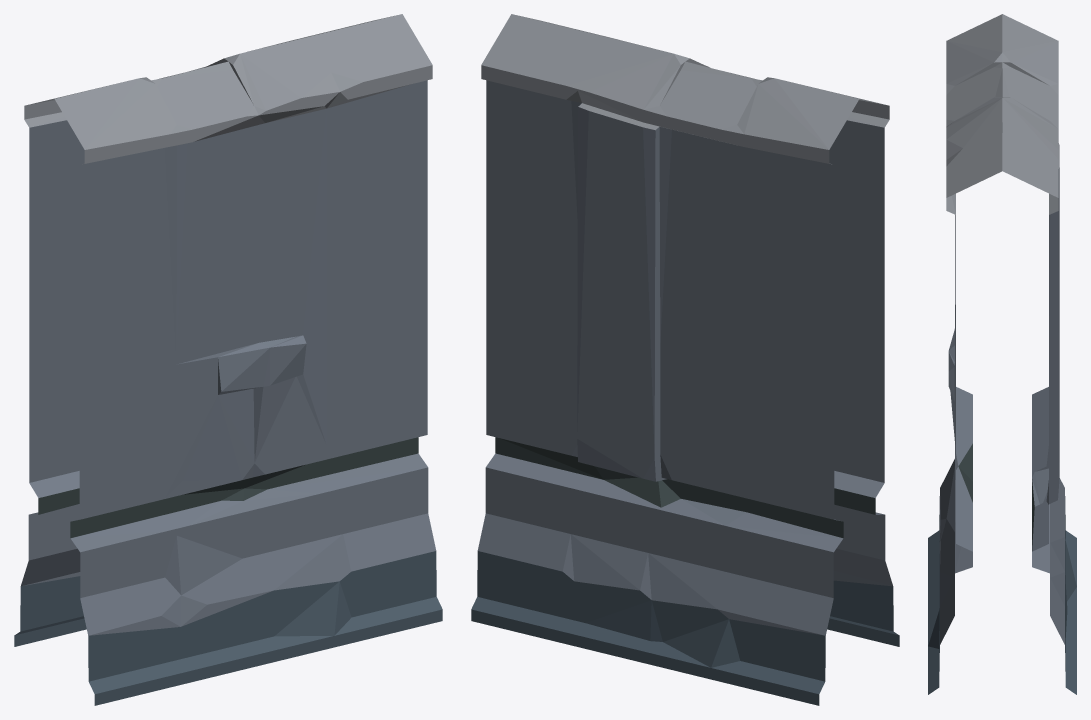
File: WallSmall2.fbx
3 renders of one model, left to right at view 1: azimuth 30°, elevation 25°; view 2: azimuth 150°, elevation 25°; view 3: azimuth 270°, elevation 25°, orthographic. The views are drawn at different scales.
Visible parts, largest first — view 1: WallSmall2; view 2: WallSmall2; view 3: WallSmall2.
Boxes of the visible parts, left/top/right/bottom form: WallSmall2: left=14, top=14, right=442, bottom=705; WallSmall2: left=471, top=14, right=899, bottom=705; WallSmall2: left=928, top=14, right=1076, bottom=694.
Size of the model in its own units: 300 by 476 by 120.
